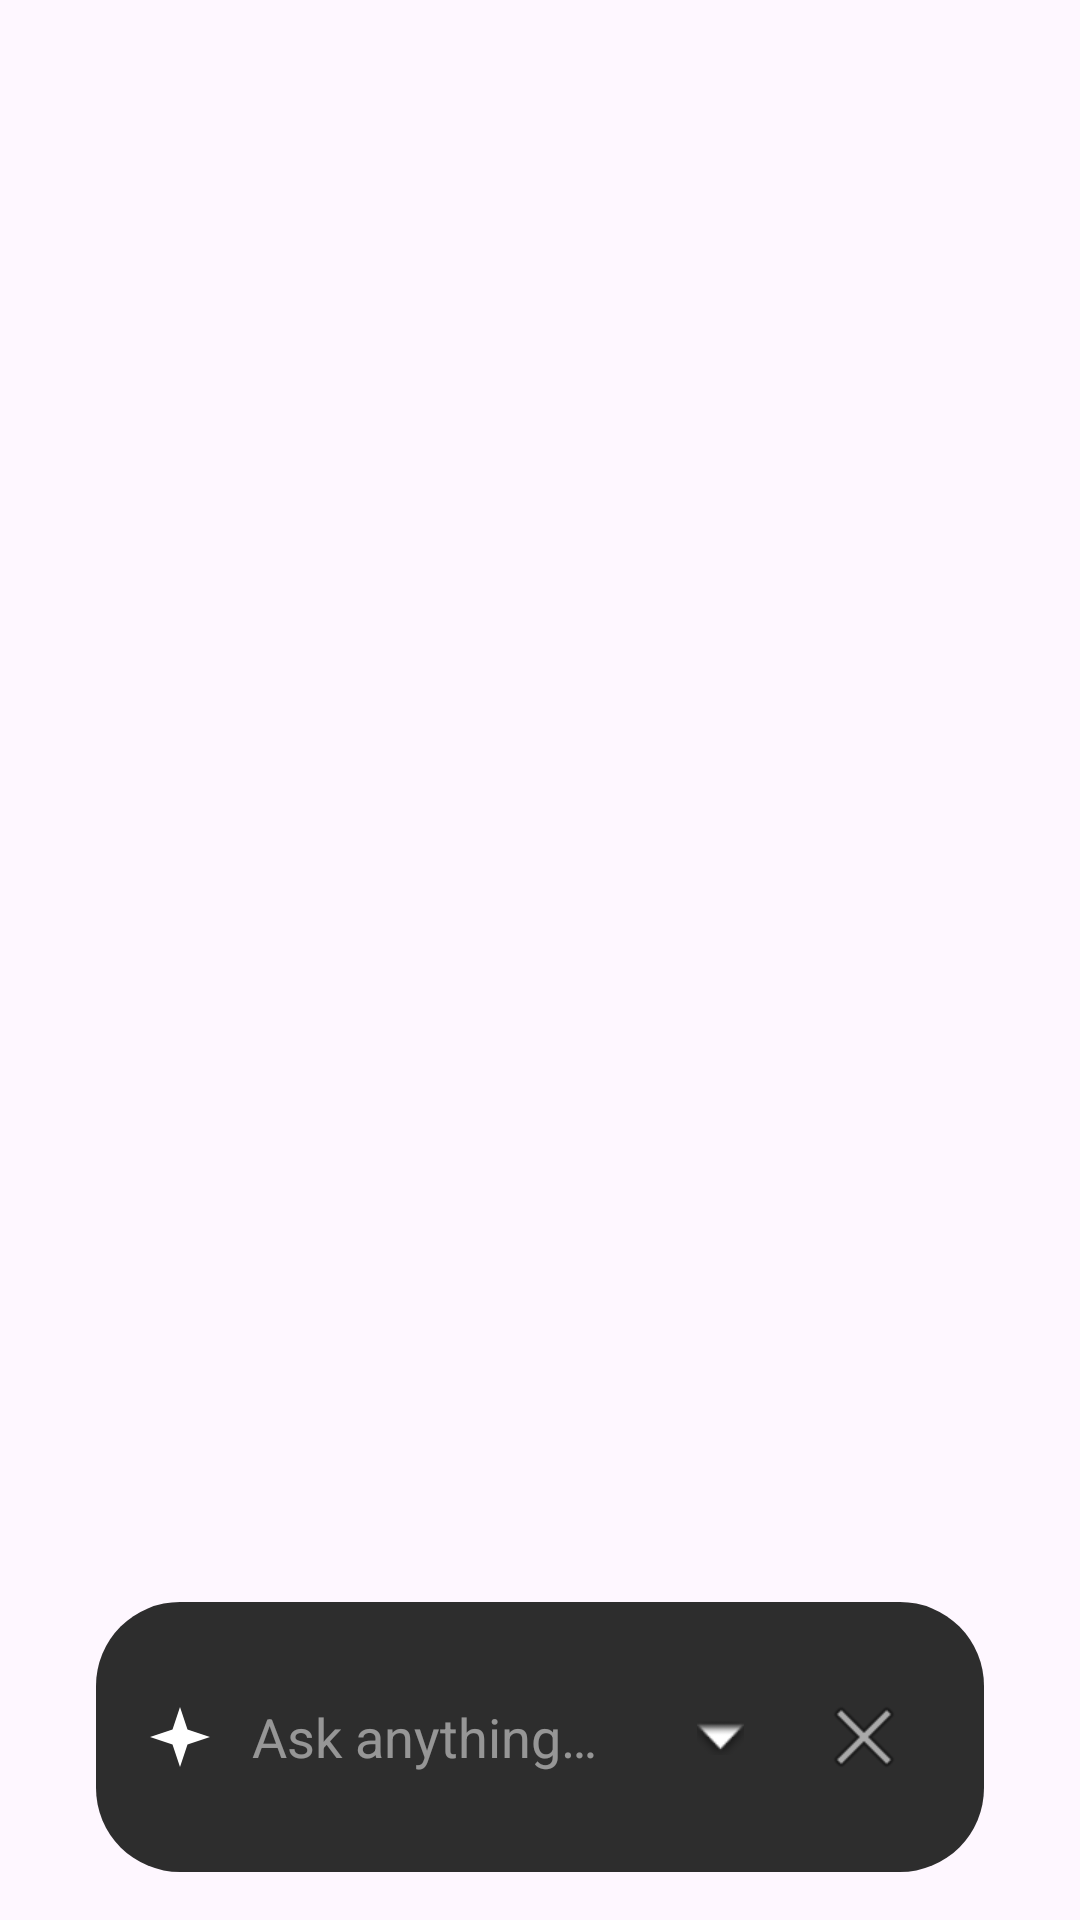

Screen size 1080 × 1920. Icon name, then its center in pixels as point (x, y):
arrow down float: point (720, 1736)
assistant spark: point (180, 1737)
close clear cancel: point (864, 1737)
